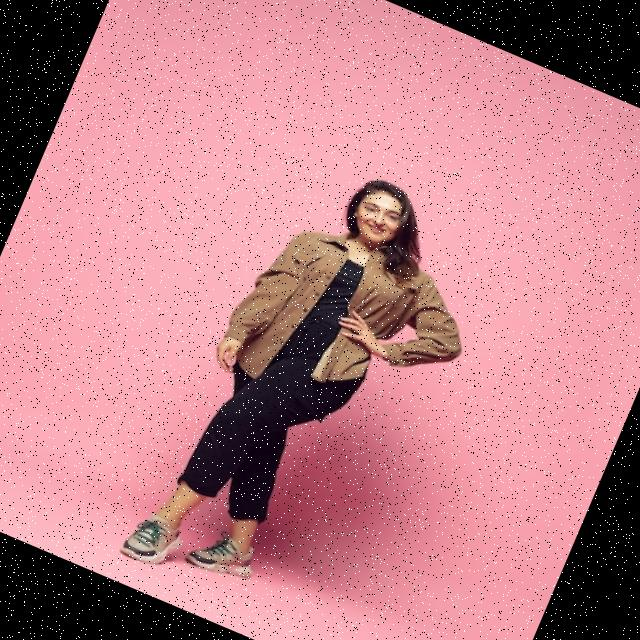Person: (116, 140, 511, 640)
